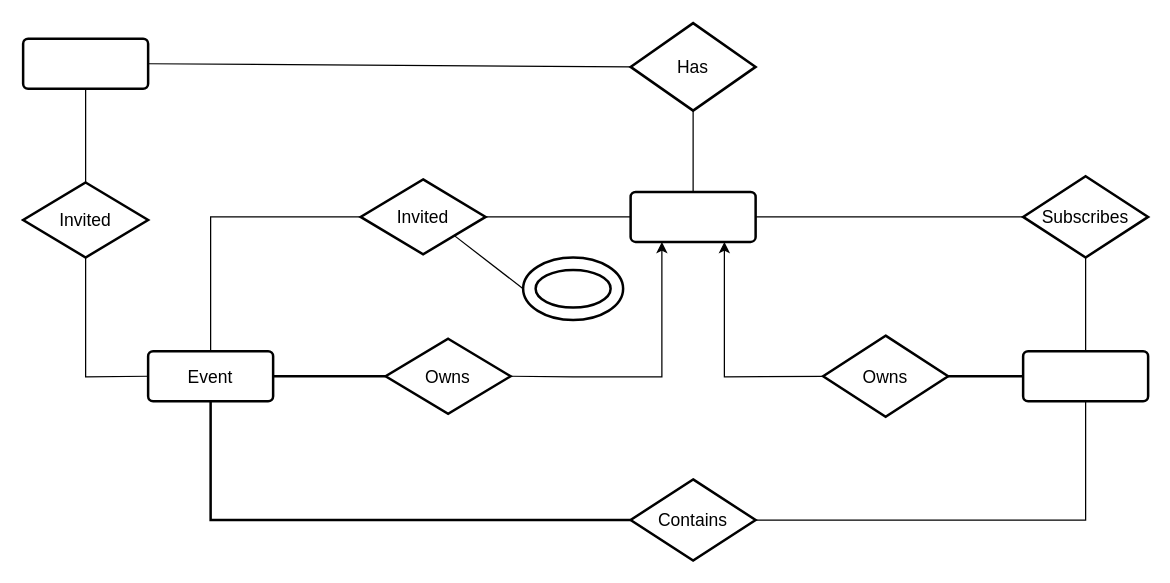
This 1170x583 diagram has some shape labels left out. The shapes that lost their labels are listed below. From the top down, each one's box as (x1, y1, x2, y2) in pixels, then its label:
(21, 37, 149, 89): Group
(629, 190, 756, 242): User
(521, 256, 624, 321): Alarm
(1021, 349, 1149, 402): Calendar
